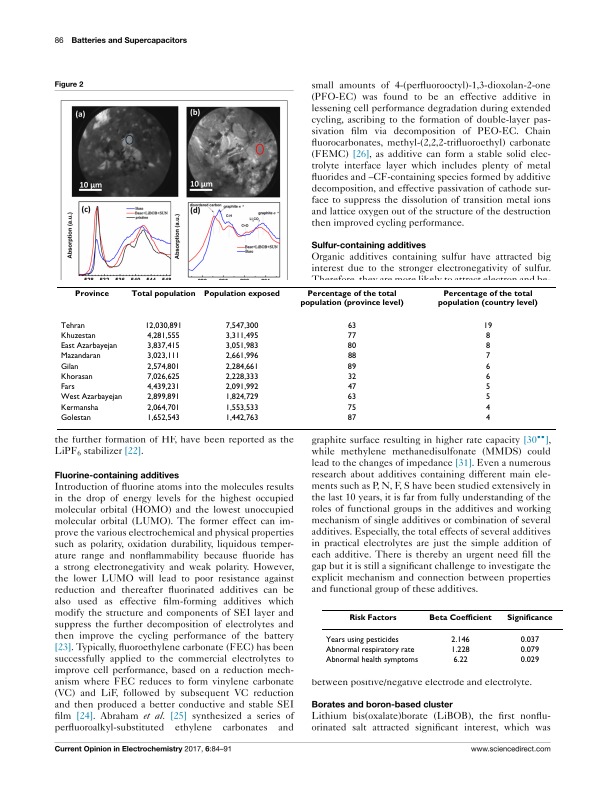borderless: (56, 285, 556, 429), (320, 608, 564, 673)
cell: (299, 290, 404, 308), (437, 290, 538, 308), (325, 655, 419, 665), (325, 645, 415, 655), (203, 290, 280, 299), (325, 635, 399, 644), (130, 290, 196, 299), (59, 393, 123, 402), (428, 613, 492, 622), (59, 342, 118, 351), (348, 613, 397, 622), (506, 613, 553, 622), (59, 403, 99, 413), (144, 321, 182, 331), (59, 352, 101, 361), (59, 331, 96, 341), (224, 321, 259, 331), (224, 331, 259, 341), (224, 362, 259, 372), (224, 372, 259, 382), (224, 403, 259, 413), (224, 413, 259, 423), (146, 331, 180, 341), (146, 362, 180, 372), (59, 372, 93, 382), (146, 372, 180, 382), (146, 403, 180, 413), (146, 413, 180, 423), (59, 413, 91, 423), (74, 290, 109, 299), (224, 342, 259, 351), (224, 352, 259, 361), (224, 383, 259, 392), (224, 393, 259, 402), (146, 342, 180, 351), (146, 352, 180, 361), (146, 383, 180, 392), (146, 393, 180, 402), (59, 321, 85, 331), (519, 645, 540, 655), (519, 655, 540, 665), (59, 362, 79, 372), (450, 645, 470, 655), (519, 635, 540, 644), (450, 635, 470, 644), (452, 655, 468, 665), (59, 383, 75, 392), (346, 321, 357, 331), (482, 321, 493, 331), (346, 331, 357, 341), (346, 362, 357, 372), (346, 372, 357, 382), (346, 403, 357, 413), (346, 413, 357, 423), (346, 342, 357, 351), (346, 352, 357, 361), (346, 383, 357, 392), (346, 393, 357, 402), (484, 372, 491, 382), (484, 413, 491, 423), (484, 342, 491, 351), (484, 352, 491, 361), (484, 383, 491, 392), (484, 393, 491, 402), (484, 331, 490, 341), (484, 362, 490, 372), (484, 403, 490, 413)
